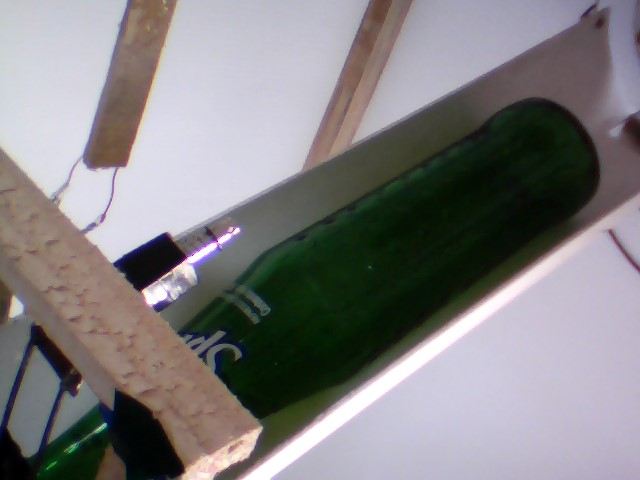vidrio: (174, 86, 603, 422)
